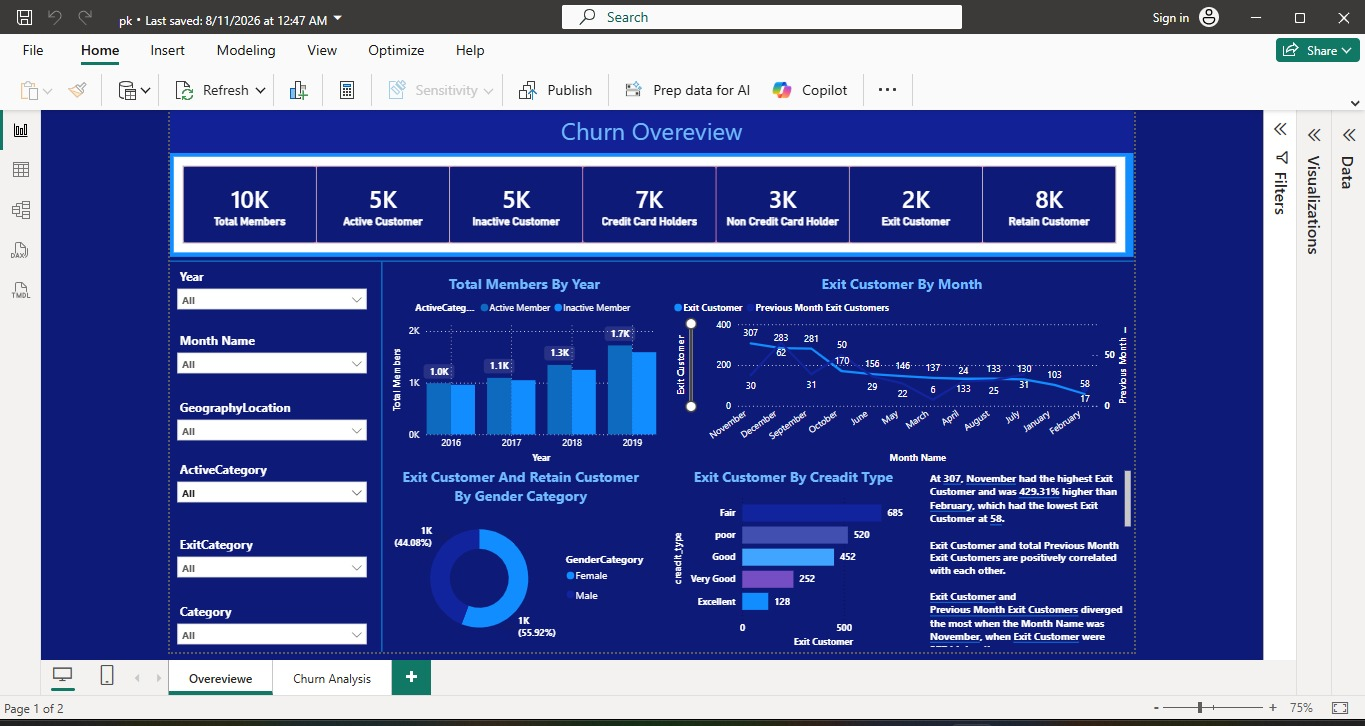

What the dashboard file says about the page in this screenshot:
{"tool":"powerbi","page":{"name":"Overeviewe","canvas":[1280,720],"ordinal":0},"visuals":[{"type":"textbox","box":[0,0,1280,67.2],"z":0},{"type":"shape","box":[0,125.9,1280.5,149.3],"z":1000},{"type":"shape","box":[10.2,200.5,541.5,519.5],"z":2000},{"type":"slicer","fields":{"Values":["calender Table.Year"]},"box":[0,204.9,270.7,70.2],"z":3000},{"type":"slicer","fields":{"Values":["Location.GeographyLocation"]},"box":[0,379,270.7,62.9],"z":4000},{"type":"slicer","fields":{"Values":["calender Table.Month Name"]},"box":[0,289.8,270.7,70.2],"z":5000},{"type":"slicer","fields":{"Values":["Active Customer.ActiveCategory"]},"box":[0,461,270.7,73.2],"z":6000},{"type":"slicer","fields":{"Values":["Exit Category.ExitCategory"]},"box":[0,560.5,270.7,71.7],"z":7000},{"type":"slicer","fields":{"Values":["Creditcard Category.Category"]},"box":[0,649.8,270.7,70.2],"z":8000},{"type":"clusteredColumnChart","title":"Total Members By Year ","fields":{"Category":["calender Table.Year"],"Y":["Active Customer.Total Members"],"Series":["Active Customer.ActiveCategory"]},"box":[291.2,218,360,256.1],"z":9000},{"type":"cardVisual","fields":{"Data":["Active Customer.Total Members","Active Customer.Active Customer","Active Customer.Inactive Customer","Active Customer.Credit Card Holders","Active Customer.Non Cedit Card Holder","Active Customer.Exit Customer","Active Customer.Retain Customer"]},"box":[0,57.1,1280.5,137.6],"z":10000},{"type":"lineChart","title":" Exit Customer By Month","fields":{"Y":["Active Customer.Exit Customer"],"Y2":["Active Customer.Previous Month Exit Customers"],"Category":["calender Table.Month Name"]},"box":[641,218,639.5,256.1],"z":11000},{"type":"donutChart","title":"Exit Customer And Retain Customer By Gender Category","fields":{"Y":["Active Customer.Exit Customer"],"Category":["Gender Category.GenderCategory"]},"box":[291.2,474.1,349.8,245.9],"z":12000},{"type":"clusteredBarChart","title":"Exit Customer By Creadit Type","fields":{"Y":["Active Customer.Exit Customer"],"Category":["Bank_Churn.creadit_type"]},"box":[664.4,474.1,327.8,244.4],"z":13000},{"type":"textbox","box":[992,474,288,244],"z":14000}]}

Visuals, with their boxes on the page's 1280x720 design canvas (x1, y1, x2, y2). These are canvas units, not pixel positions in the 1365x726 screenshot, which may show the page scaled, cropped or inside an application window:
textbox: 0, 0, 1280, 67
shape: 0, 126, 1280, 275
shape: 10, 200, 552, 720
slicer - calender Table.Year: 0, 205, 271, 275
slicer - Location.GeographyLocation: 0, 379, 271, 442
slicer - calender Table.Month Name: 0, 290, 271, 360
slicer - Active Customer.ActiveCategory: 0, 461, 271, 534
slicer - Exit Category.ExitCategory: 0, 560, 271, 632
slicer - Creditcard Category.Category: 0, 650, 271, 720
"Total Members By Year " clusteredColumnChart: 291, 218, 651, 474
cardVisual - Active Customer.Total Members x Active Customer.Active Customer: 0, 57, 1280, 195
" Exit Customer By Month" lineChart: 641, 218, 1280, 474
"Exit Customer And Retain Customer By Gender Category" donutChart: 291, 474, 641, 720
"Exit Customer By Creadit Type" clusteredBarChart: 664, 474, 992, 718
textbox: 992, 474, 1280, 718
